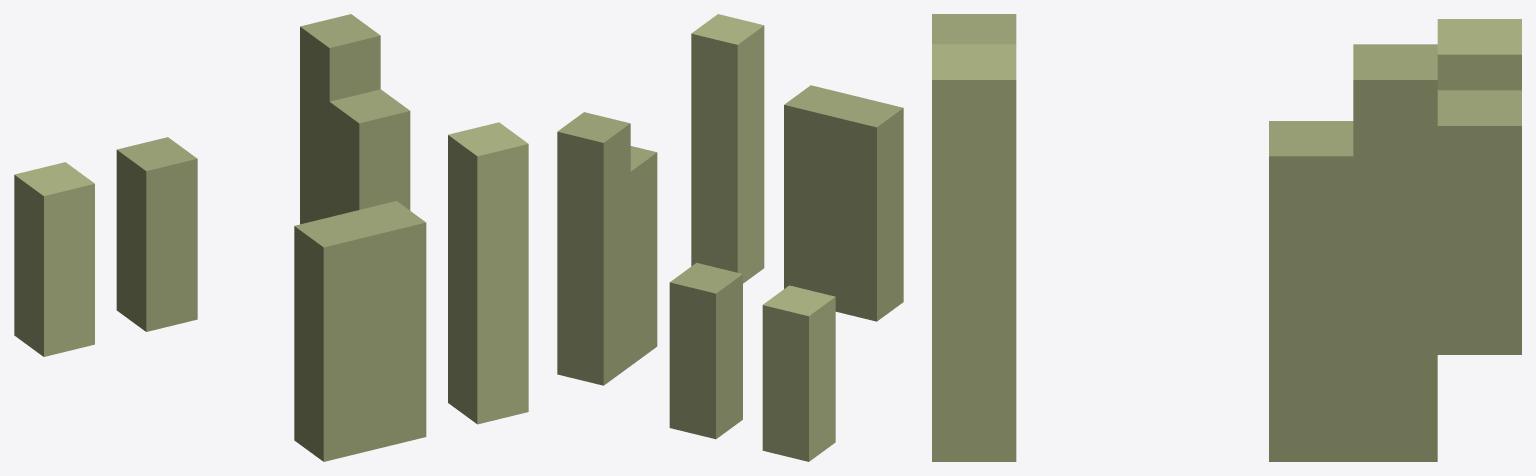
File: juncos_de_playa_03.glb
The picture shows the model from 3 angles, left to right: view 1: azimuth 30°, elevation 25°; view 2: azimuth 150°, elevation 25°; view 3: azimuth 270°, elevation 25°; orthographic projection. The views are drawn at different scales.
Parts seen in each view (by area): view 1: juncos_de_playa_03; view 2: juncos_de_playa_03; view 3: juncos_de_playa_03.
Boxes of the visible parts, x1,y1,x2,y2 form: juncos_de_playa_03: [14, 14, 528, 461]; juncos_de_playa_03: [557, 14, 903, 461]; juncos_de_playa_03: [932, 14, 1521, 461].
Size of the model in its own units: 0.6 by 0.5 by 0.7.
